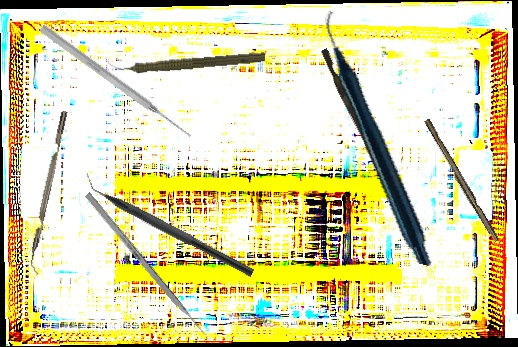Chopper: (78, 169, 261, 278), (24, 110, 76, 276)
Handpiece: (273, 10, 485, 267), (107, 46, 266, 78)
Pusher: (84, 192, 216, 347), (38, 23, 194, 141), (316, 48, 399, 193)
Scalpel Handle: (420, 118, 502, 244)
